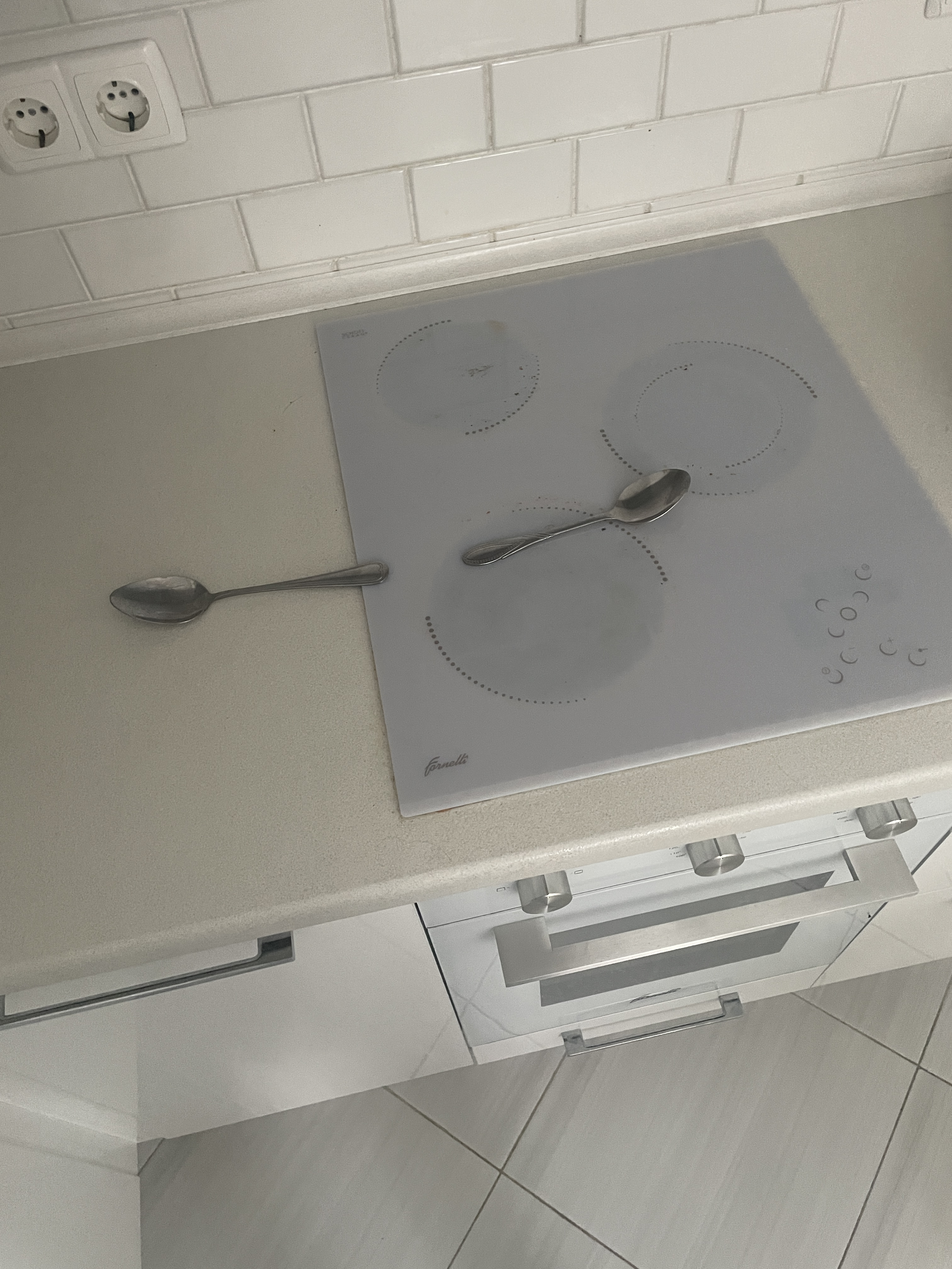spoon: (462, 468, 691, 566), (110, 562, 388, 623)
